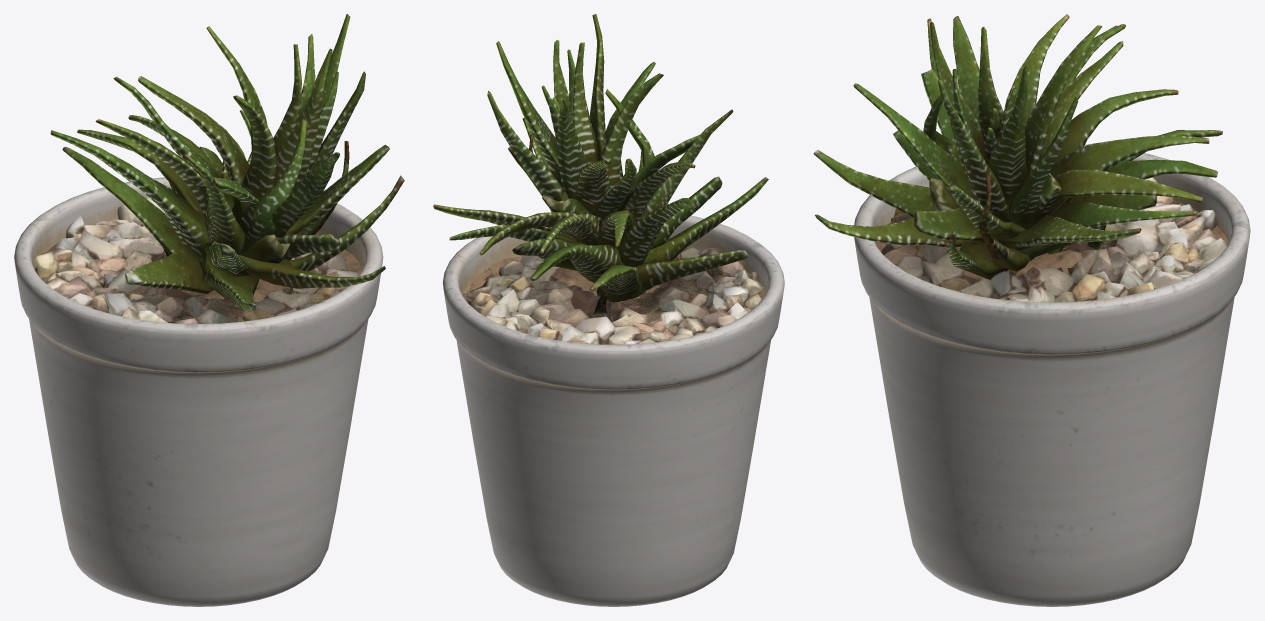
File: potted_plant_04.glb
The picture shows the model from 3 angles, left to right: view 1: azimuth 30°, elevation 25°; view 2: azimuth 150°, elevation 25°; view 3: azimuth 270°, elevation 25°; orthographic projection. The views are drawn at different scales.
Parts seen in each view (by area): view 1: potted_plant_04_pot, potted_plant_04_plant, potted_plant_04_ground, potted_plant_04_dirt; view 2: potted_plant_04_pot, potted_plant_04_plant, potted_plant_04_ground, potted_plant_04_dirt; view 3: potted_plant_04_pot, potted_plant_04_plant, potted_plant_04_ground, potted_plant_04_dirt.
Part boxes in pixels (x1,y1,x2,y2): potted_plant_04_pot: [14, 177, 383, 606]; potted_plant_04_plant: [50, 14, 404, 311]; potted_plant_04_ground: [34, 196, 357, 323]; potted_plant_04_dirt: [34, 238, 362, 307]; potted_plant_04_pot: [443, 215, 784, 606]; potted_plant_04_plant: [433, 14, 768, 314]; potted_plant_04_ground: [463, 247, 765, 344]; potted_plant_04_dirt: [462, 247, 765, 306]; potted_plant_04_pot: [854, 144, 1250, 606]; potted_plant_04_plant: [813, 14, 1222, 279]; potted_plant_04_ground: [881, 177, 1227, 302]; potted_plant_04_dirt: [875, 200, 1228, 297].
Bounding box in the file's own units: 0.1679 × 0.2675 × 0.1848.
1 material, 1 textured.
